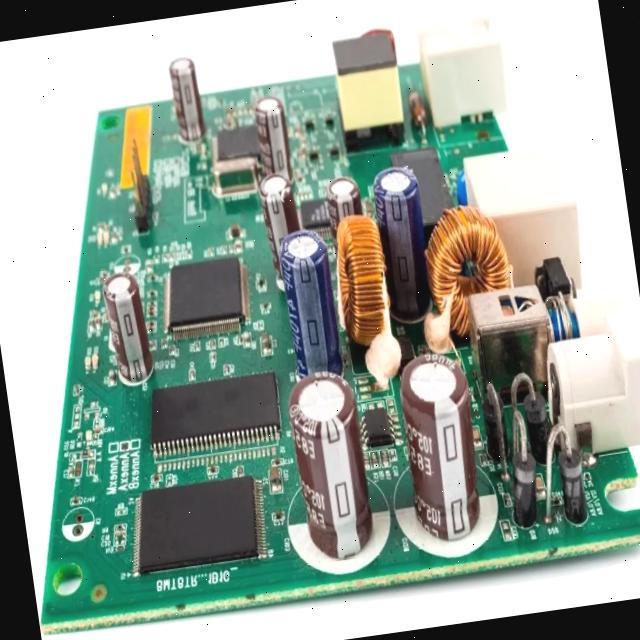Electrolytic capacitor: (390, 350, 492, 546), (281, 368, 380, 566), (274, 228, 346, 378), (99, 267, 154, 388), (252, 175, 308, 293), (246, 90, 298, 192), (165, 56, 208, 146)
